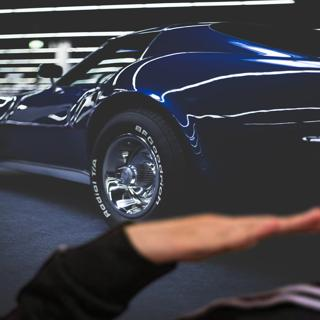Wait: (124, 199, 320, 274)
